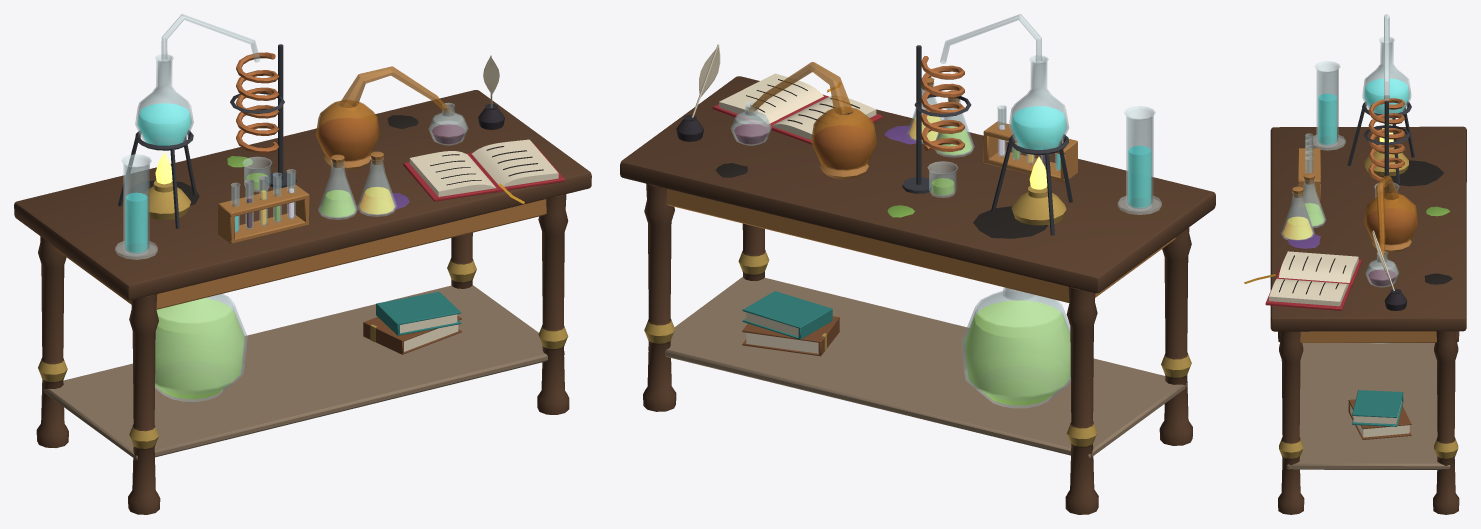
File: deco_alchemy_table.fbx
The picture shows the model from 3 angles, left to right: view 1: azimuth 30°, elevation 25°; view 2: azimuth 150°, elevation 25°; view 3: azimuth 270°, elevation 25°; orthographic projection. The views are drawn at different scales.
Visible parts, largest first — view 1: AlchemyTable_Table, AlchemyTable_Glassware, AlchemyTable_Liquids, AlchemyTable_Book, AlchemyTable_Burner; view 2: AlchemyTable_Table, AlchemyTable_Glassware, AlchemyTable_Liquids, AlchemyTable_Book, AlchemyTable_Burner; view 3: AlchemyTable_Table, AlchemyTable_Glassware, AlchemyTable_Book, AlchemyTable_Liquids, AlchemyTable_Burner.
Boxes of the visible parts, x1,y1,x2,y2 form: AlchemyTable_Table: (14,90,591,514); AlchemyTable_Glassware: (115,14,468,401); AlchemyTable_Liquids: (125,103,464,399); AlchemyTable_Book: (363,55,564,354); AlchemyTable_Burner: (118,130,196,228); AlchemyTable_Table: (620,76,1215,514); AlchemyTable_Glassware: (730,14,1161,408); AlchemyTable_Liquids: (734,106,1151,405); AlchemyTable_Book: (676,44,882,356); AlchemyTable_Burner: (991,134,1072,235); AlchemyTable_Table: (1270,126,1466,514); AlchemyTable_Glassware: (1281,14,1417,343); AlchemyTable_Book: (1244,230,1411,439); AlchemyTable_Liquids: (1283,78,1415,286); AlchemyTable_Burner: (1347,95,1414,184).
Size of the model in its own units: 200 by 177 by 97.72.
